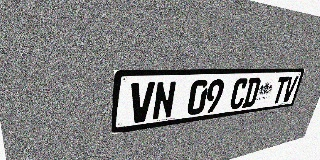0: (186, 80, 209, 116)
9: (203, 79, 226, 113)
C: (228, 78, 249, 110)
D: (242, 77, 262, 108)
N: (152, 81, 177, 121)
T: (271, 76, 289, 104)
V: (129, 82, 155, 124), (281, 76, 299, 102)
